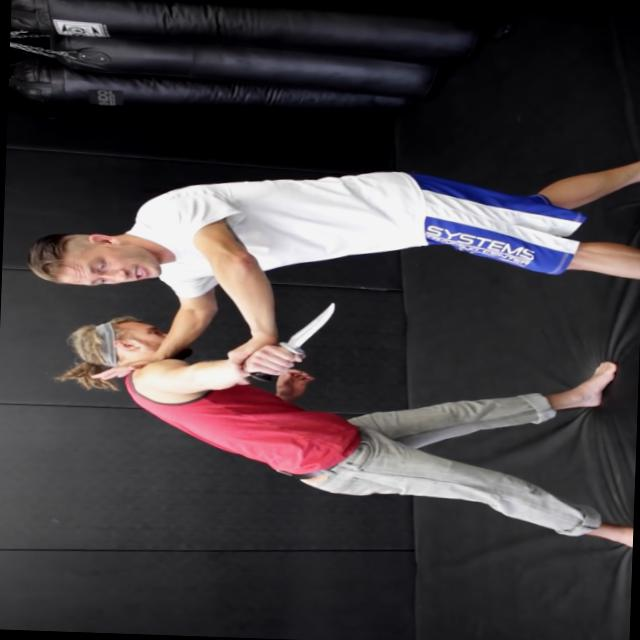knife: (243, 296, 342, 386)
